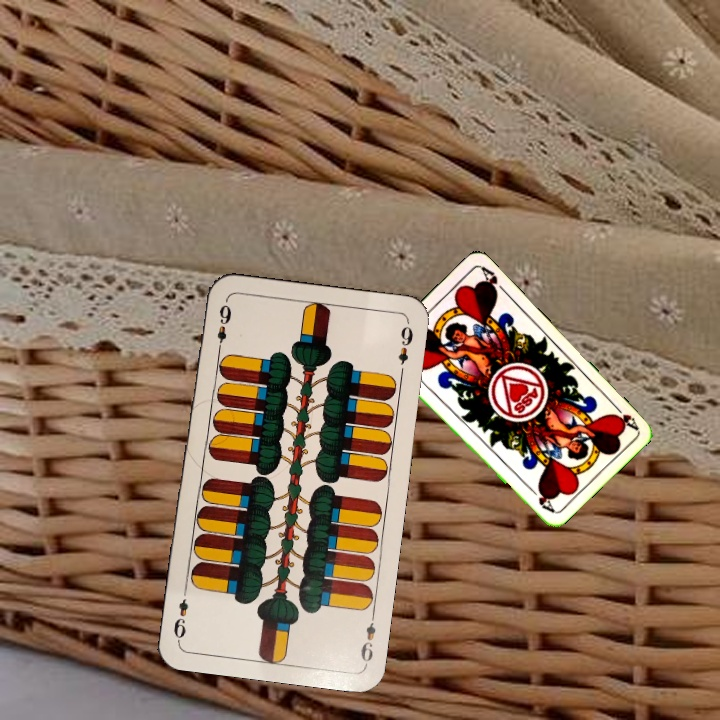E9: (356, 608, 379, 667), (213, 297, 234, 356)
HA: (608, 399, 640, 432)
